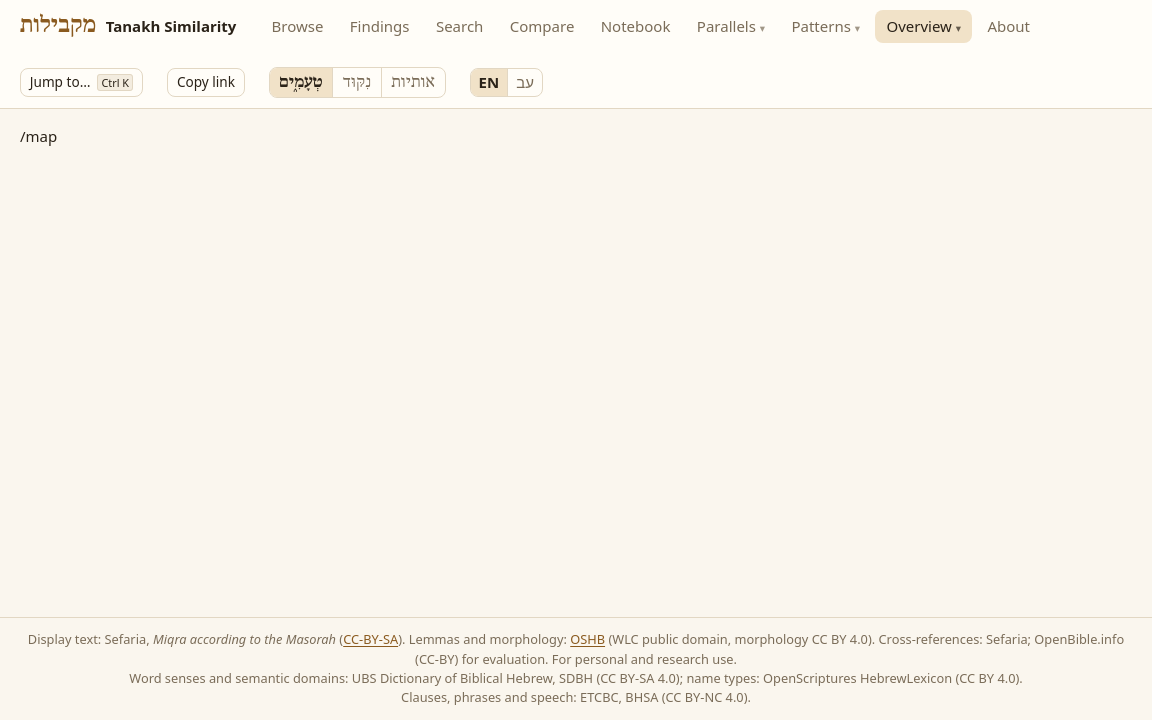
Test case: JumpBox › opens on Ctrl+K and goes to the passage a reference names
The width and height of the screenshot is (1152, 720).
Press k
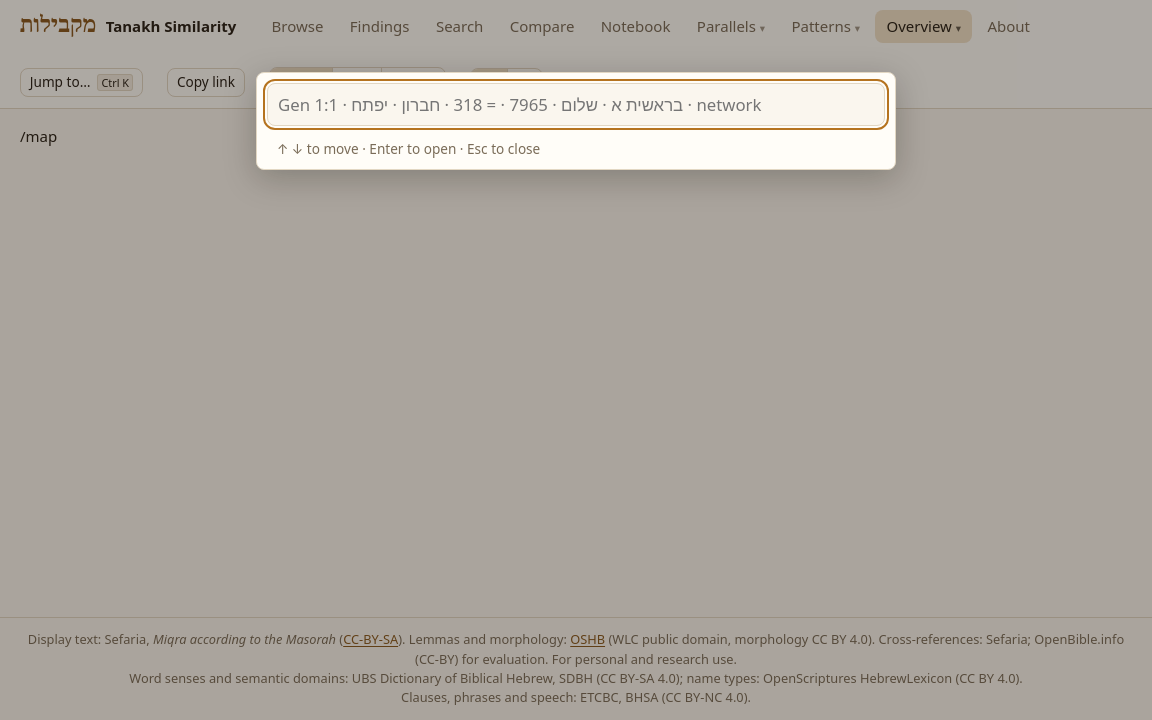
Expected: the dialog is shown, [256,72,896,170]
Replace the text in the dropdown named "Jump to a passage, a word, a place, a person or a page" with "Gen 1:1": x=576, y=104 [267,83,885,126]
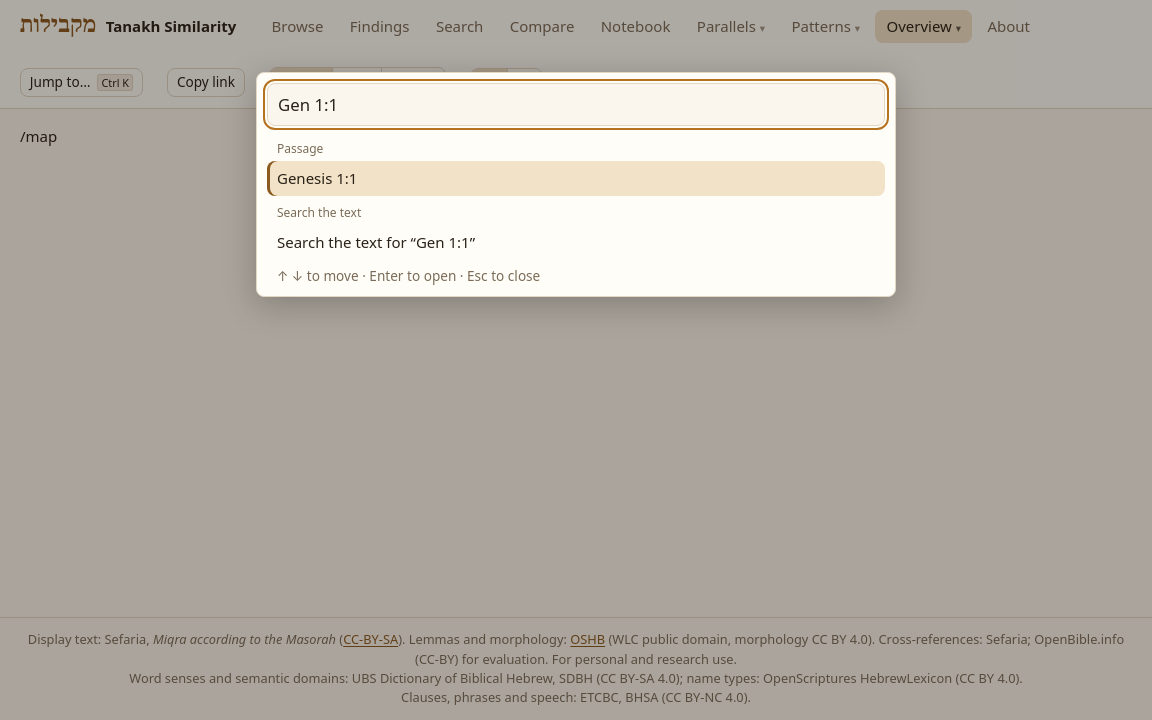
Expected: the option "Search the text for “Gen 1:1”" is shown, [277,232,475,252]
Press Enter in the dropdown named "Jump to a passage, a word, a place, a person or a page", box [267,83,885,126]
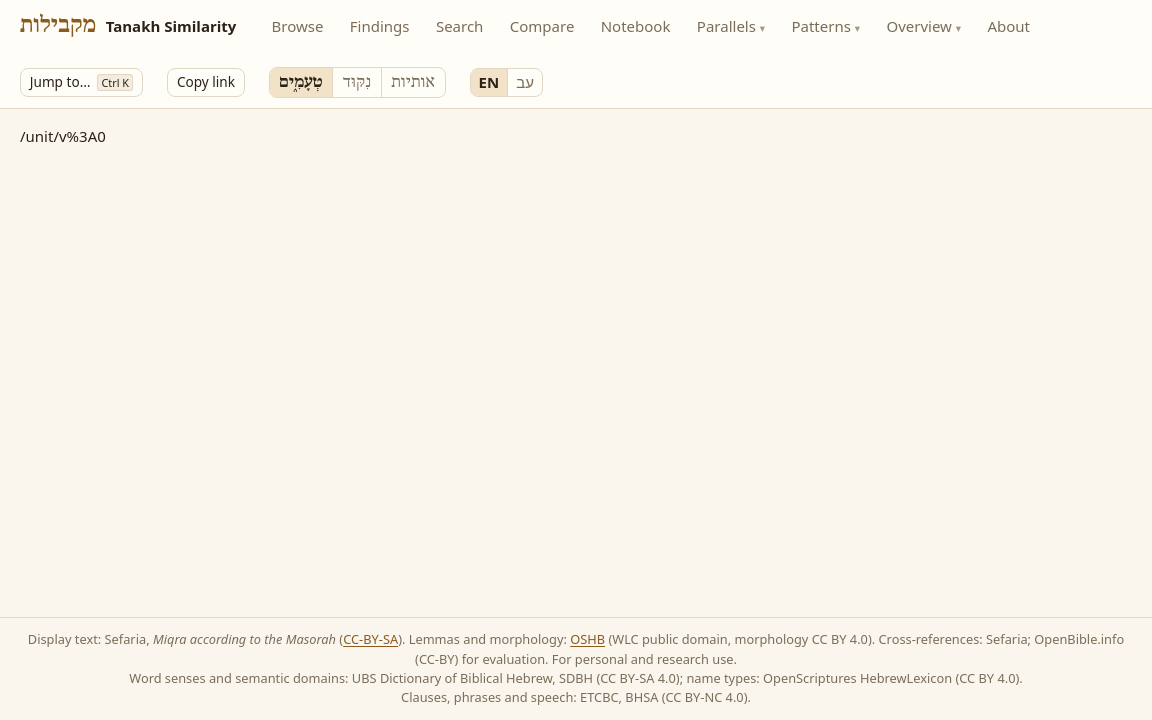
Expected: the text with test id "loc" reads "/unit/v%3A0", [20,126,106,146]
Expected: the dialog is gone
